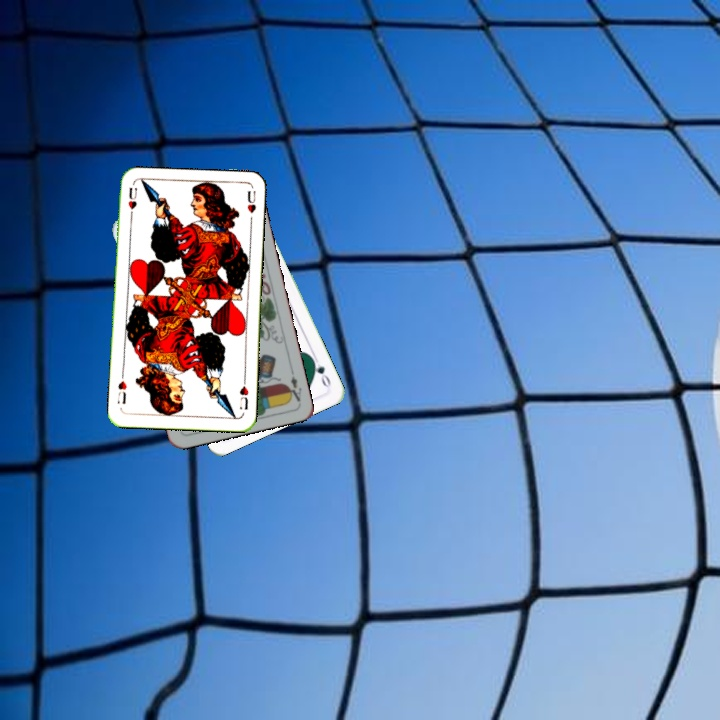EA: (283, 365, 304, 404)
GO: (307, 352, 333, 390)
HU: (124, 183, 140, 222), (236, 375, 251, 412)
